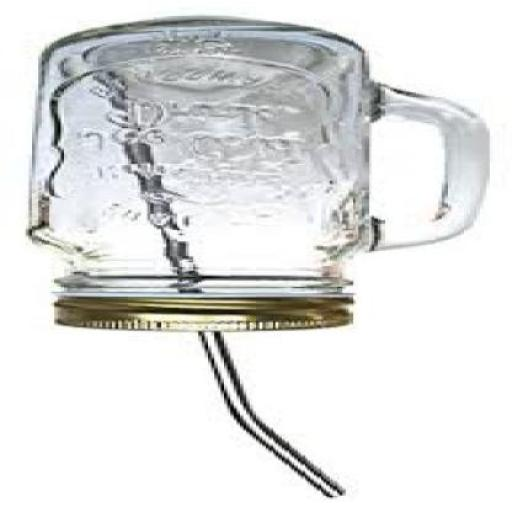glass: (26, 18, 486, 298)
metal: (48, 294, 342, 332)
